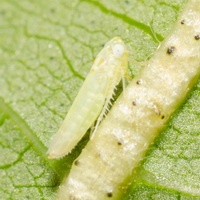insect: (56, 0, 199, 199), (47, 37, 127, 158)
